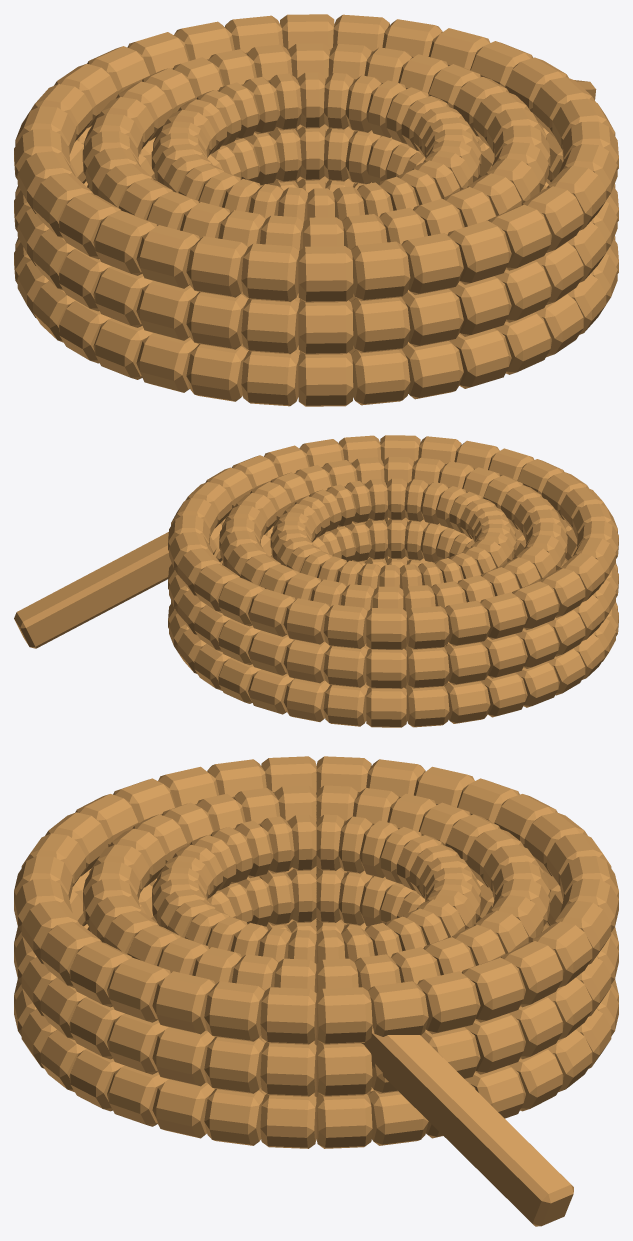
Rendered from rope_coil.glb.
3 views of the same model, one above another, from view 1: azimuth 30°, elevation 25°; view 2: azimuth 150°, elevation 25°; view 3: azimuth 270°, elevation 25° (orthographic). The views are drawn at different scales.
Visible parts, largest first — view 1: rope_coil__body__wood3; view 2: rope_coil__body__wood3; view 3: rope_coil__body__wood3.
Boxes of the visible parts, bbox=[...] form: rope_coil__body__wood3: bbox=[14, 14, 618, 406]; rope_coil__body__wood3: bbox=[14, 435, 618, 727]; rope_coil__body__wood3: bbox=[14, 756, 618, 1226].
Bounding box in the file's own units: 0.6576 × 0.1593 × 0.5266.
